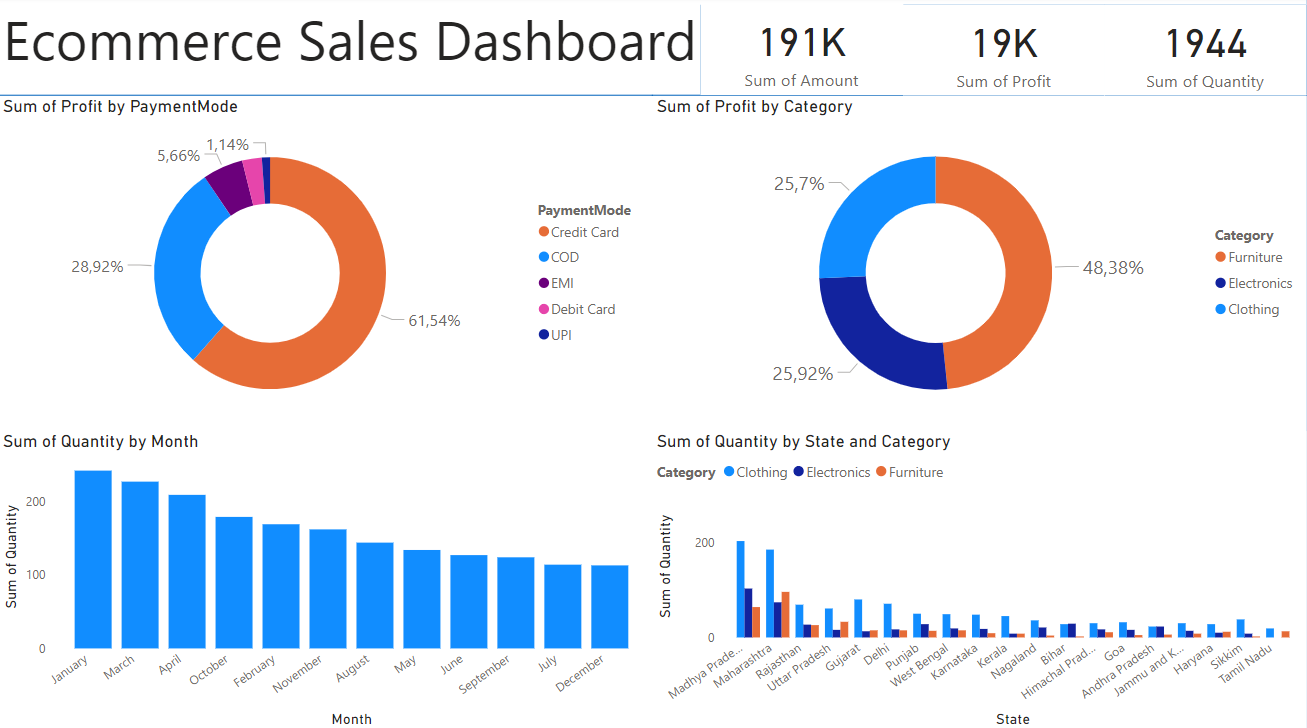

Layout of this report page (visuals, bound fields, positions):
{"tool":"powerbi","page":{"name":"Page 3","canvas":[1280,720],"ordinal":2},"visuals":[{"type":"shape","box":[0,0,1280.3,96.1],"z":0},{"type":"shape","box":[0,96.1,640.8,329.3],"z":1000},{"type":"shape","box":[639.5,96.1,640.8,329.3],"z":2000},{"type":"shape","box":[0,425.4,639.5,295],"z":3000},{"type":"shape","box":[640.8,425.4,639.5,295],"z":4000},{"type":"textbox","box":[0,0,1280.3,96.1],"z":5000},{"type":"shape","box":[1082.7,8.2,197.6,87.8],"z":6000},{"type":"shape","box":[885.1,8.2,197.6,87.8],"z":7000},{"type":"shape","box":[687.5,8.2,197.6,87.8],"z":8000},{"type":"card","fields":{"Values":["measures calculations.Sum of Quantity"]},"box":[1082.7,8.2,197.6,89.2],"z":9000},{"type":"card","fields":{"Values":["measures calculations.Sum of Profit"]},"box":[885.1,8.2,197.6,89.2],"z":10000},{"type":"card","fields":{"Values":["measures calculations.Sum of Amount"]},"box":[687.2,7.3,198.1,89.3],"z":11000},{"type":"donutChart","fields":{"Category":["Orders and Details.PaymentMode"],"Y":["measures calculations.Sum of Profit"]},"box":[0,97.8,640.8,327.7],"z":12000},{"type":"donutChart","fields":{"Y":["measures calculations.Sum of Profit"],"Category":["Orders and Details.Category"]},"box":[639.5,97.8,640.8,327.7],"z":13000},{"type":"clusteredColumnChart","fields":{"Y":["measures calculations.Sum of Quantity"],"Category":["Orders and Details.State"],"Series":["Orders and Details.Category"]},"box":[639.5,425.5,640.8,294.7],"z":14000},{"type":"clusteredColumnChart","fields":{"Y":["measures calculations.Sum of Quantity"],"Category":["Orders and Details.Month"]},"box":[0,425.5,640.8,294.7],"z":15000}]}

Visuals, with their boxes in screenshot pixels (x1, y1, x2, y2), scaled from the page's 1280x720 canvas onto the 1307x728 screenshot:
shape: {"x1": 0, "y1": 0, "x2": 1306, "y2": 97}
shape: {"x1": 0, "y1": 97, "x2": 654, "y2": 430}
shape: {"x1": 653, "y1": 97, "x2": 1306, "y2": 430}
shape: {"x1": 0, "y1": 430, "x2": 653, "y2": 727}
shape: {"x1": 654, "y1": 430, "x2": 1306, "y2": 727}
textbox: {"x1": 0, "y1": 0, "x2": 1306, "y2": 97}
shape: {"x1": 1106, "y1": 8, "x2": 1306, "y2": 97}
shape: {"x1": 904, "y1": 8, "x2": 1106, "y2": 97}
shape: {"x1": 702, "y1": 8, "x2": 904, "y2": 97}
card - measures calculations.Sum of Quantity: {"x1": 1106, "y1": 8, "x2": 1306, "y2": 98}
card - measures calculations.Sum of Profit: {"x1": 904, "y1": 8, "x2": 1106, "y2": 98}
card - measures calculations.Sum of Amount: {"x1": 702, "y1": 7, "x2": 904, "y2": 98}
donutChart - Orders and Details.PaymentMode x measures calculations.Sum of Profit: {"x1": 0, "y1": 99, "x2": 654, "y2": 430}
donutChart - measures calculations.Sum of Profit x Orders and Details.Category: {"x1": 653, "y1": 99, "x2": 1306, "y2": 430}
clusteredColumnChart - measures calculations.Sum of Quantity x Orders and Details.State: {"x1": 653, "y1": 430, "x2": 1306, "y2": 727}
clusteredColumnChart - measures calculations.Sum of Quantity x Orders and Details.Month: {"x1": 0, "y1": 430, "x2": 654, "y2": 727}
